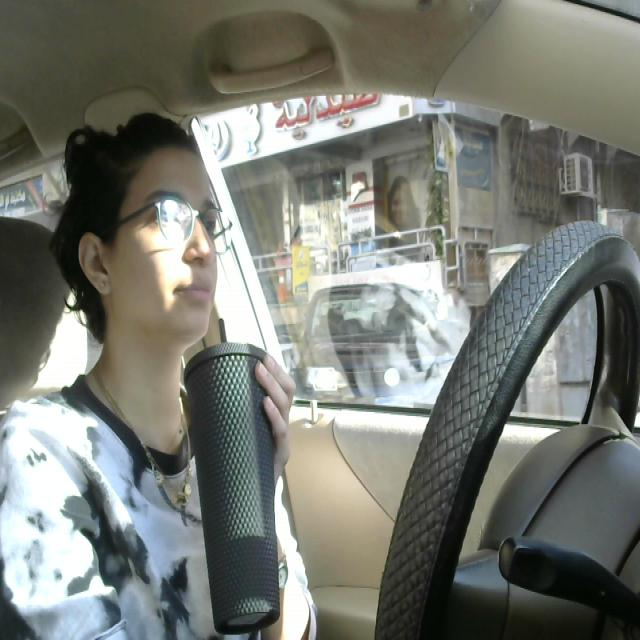drinking: (179, 313, 297, 637)
